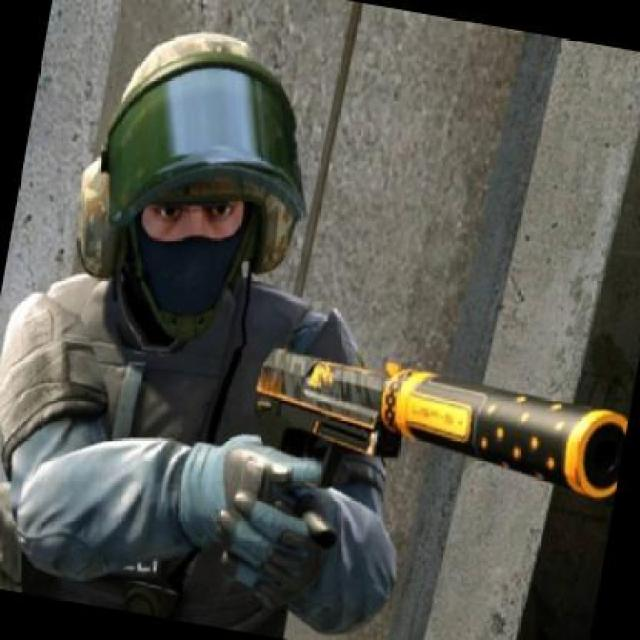MIL_Pax: (0, 4, 482, 638)
